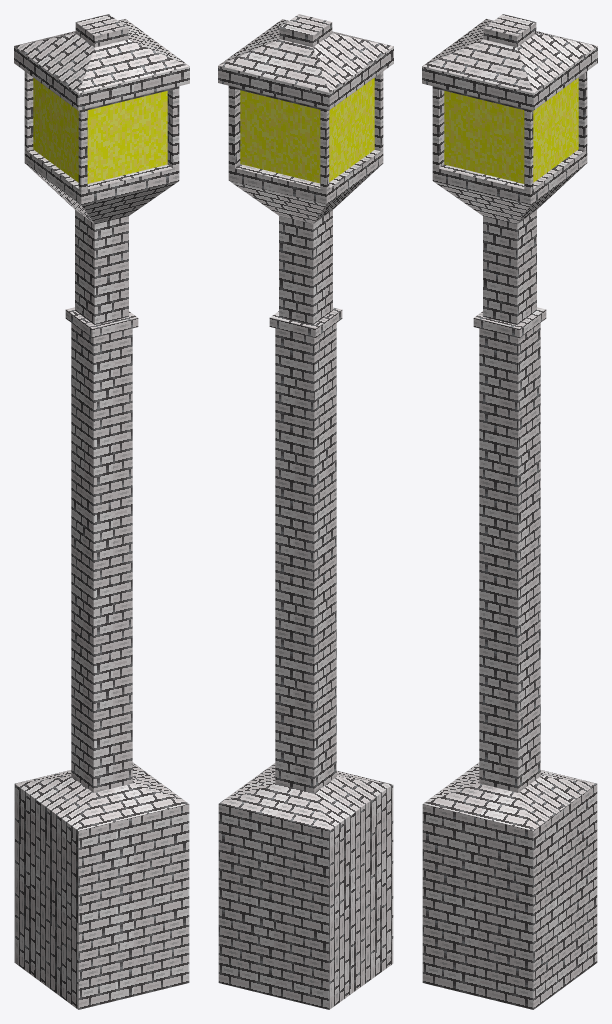
The model's file is BLOCKYGON_STREET LANTERN .fbx.
The picture shows the model from 3 angles, left to right: view 1: azimuth 30°, elevation 25°; view 2: azimuth 150°, elevation 25°; view 3: azimuth 330°, elevation 25°; orthographic projection.
Parts seen in each view (by area): view 1: BLOCKYGON_STREET_LANTERN_; view 2: BLOCKYGON_STREET_LANTERN_; view 3: BLOCKYGON_STREET_LANTERN_.
Boxes of the visible parts, bbox=[...] form: BLOCKYGON_STREET_LANTERN_: bbox=[14, 14, 189, 1009]; BLOCKYGON_STREET_LANTERN_: bbox=[218, 14, 393, 1009]; BLOCKYGON_STREET_LANTERN_: bbox=[422, 14, 597, 1009].
Size of the model in its own units: 30.98 by 252 by 30.98.
Materials: 2 (2 with a texture image).
